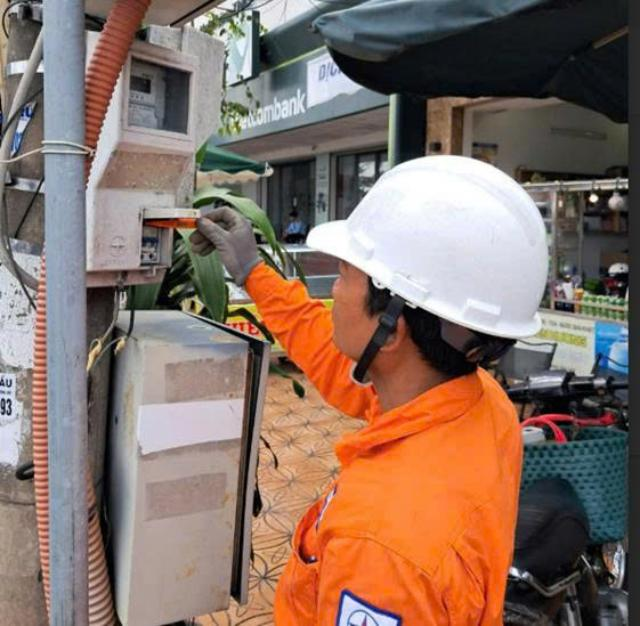gloves: (199, 197, 277, 295)
helmet: (306, 159, 565, 346)
